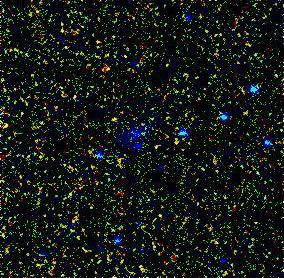star: (97, 108, 127, 138)
